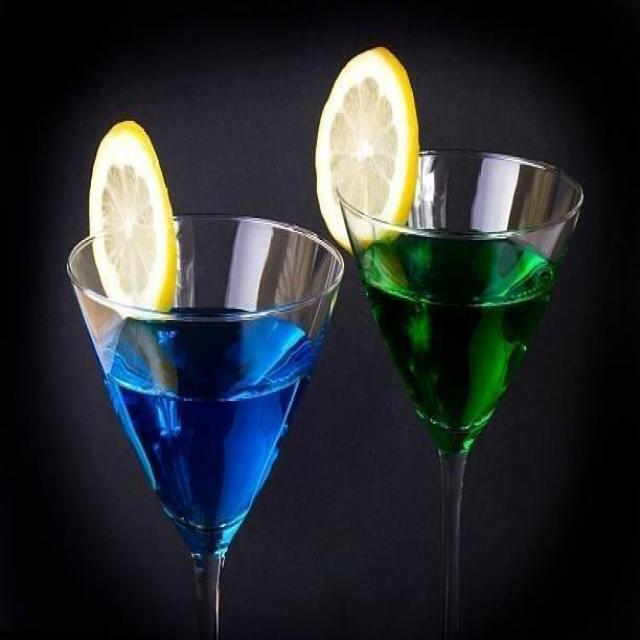glass-wine: (336, 143, 584, 638), (66, 212, 345, 640)
